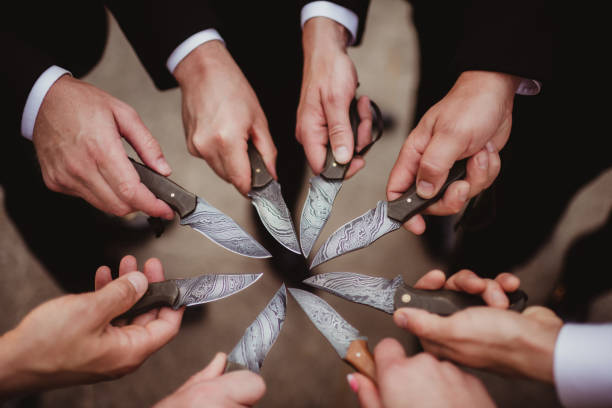knife: (306, 158, 469, 272), (126, 155, 273, 261), (301, 270, 532, 319), (297, 94, 358, 260), (287, 286, 377, 385), (109, 269, 265, 320), (245, 137, 301, 256), (221, 279, 288, 376)
